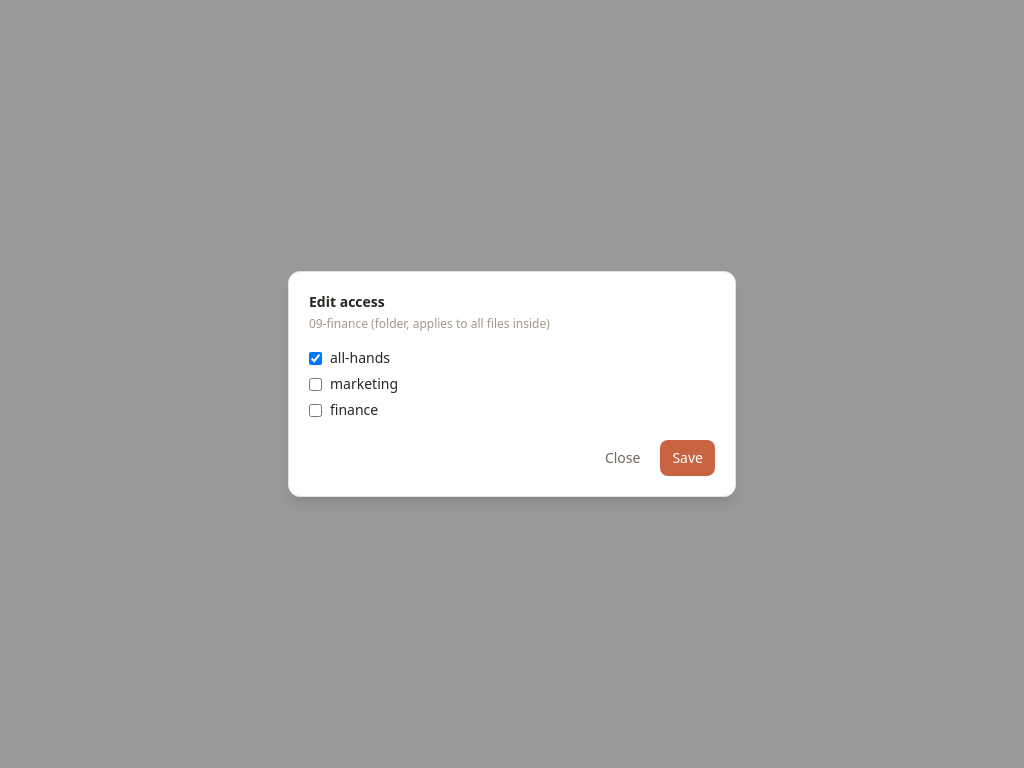
Scenario: AccessModal › links the change request when the save opened one for review
This screenshot has width=1024, height=768.
Expected: the checkbox labelled "all-hands" is checked, [309,352,322,364]
Click the button "Save". click: (688, 458)
box: [660,440,715,476]
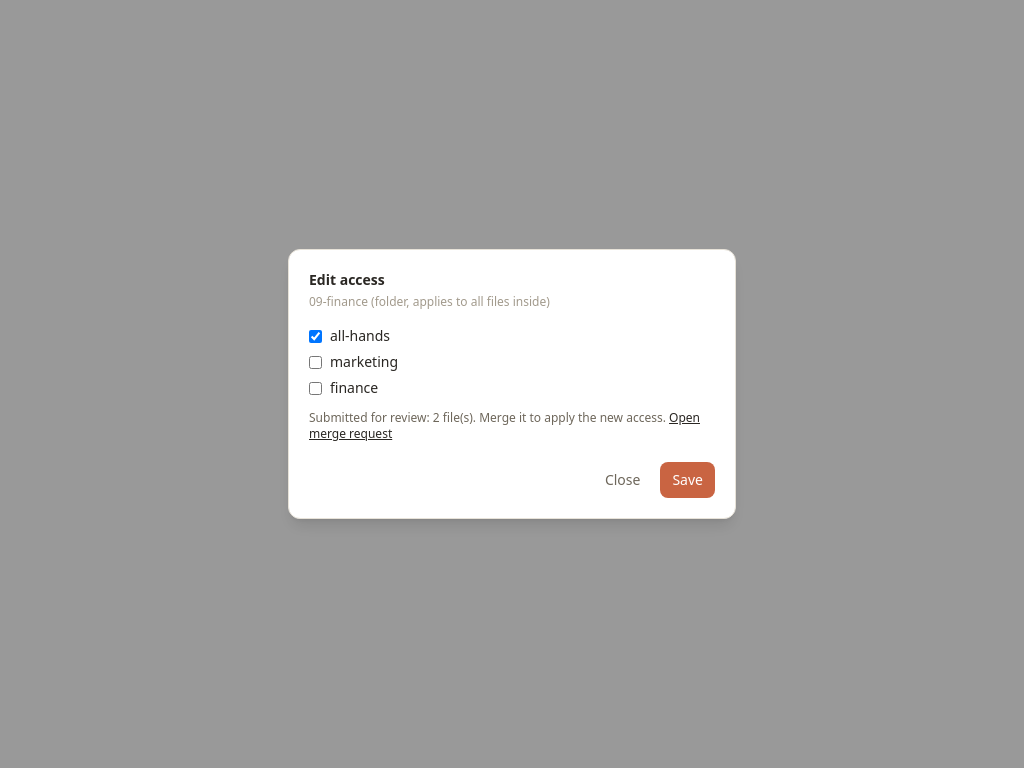
Result: the text "Submitted for review" is shown at [309,409,666,426]
